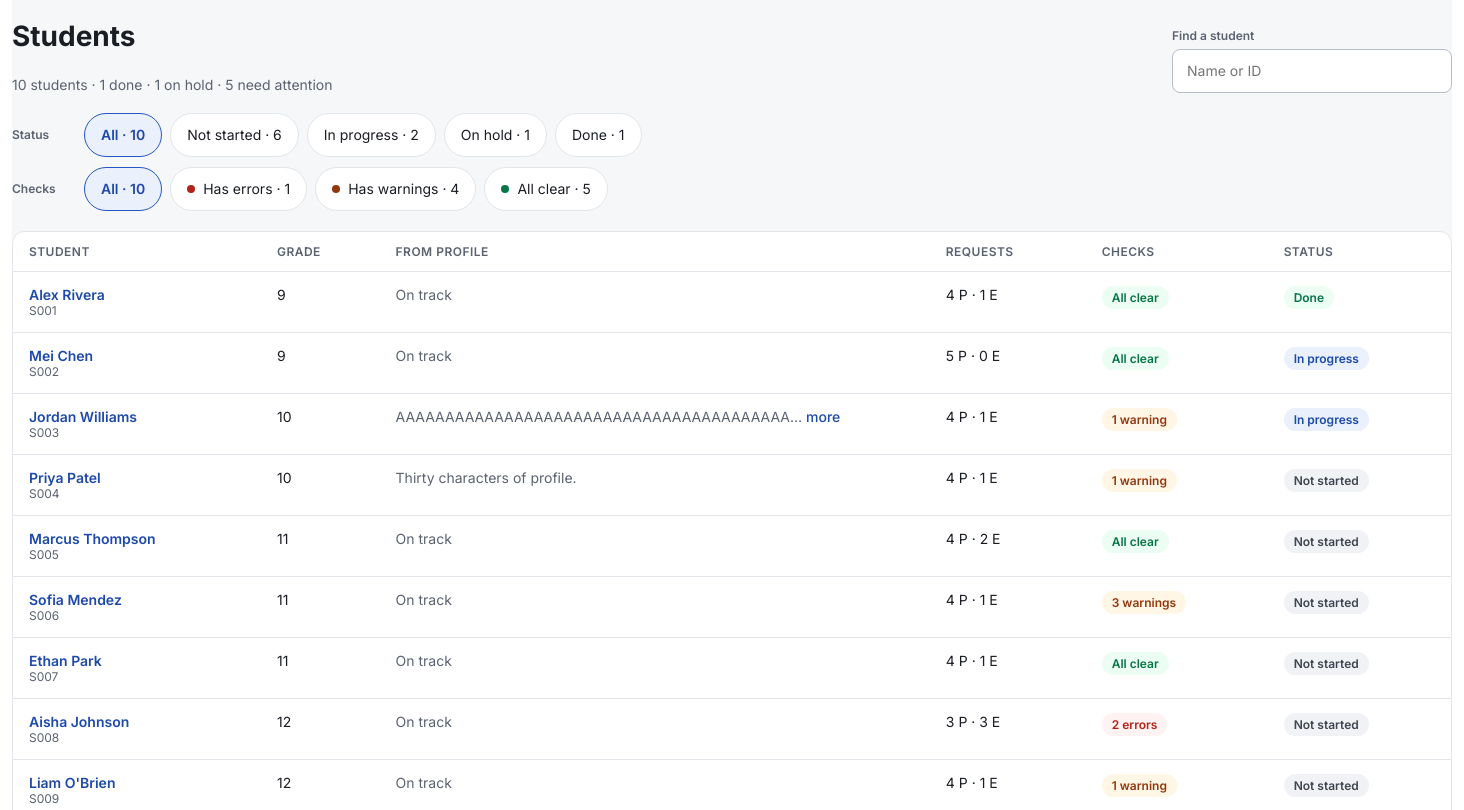
Test: a long profile shows 40 characters, 'more' expands to 255 and 'less' collapses
The image size is (1464, 810).
Click the button with aria-label "more: Jordan Williams profile" at (823,416), box [806, 408, 840, 424]
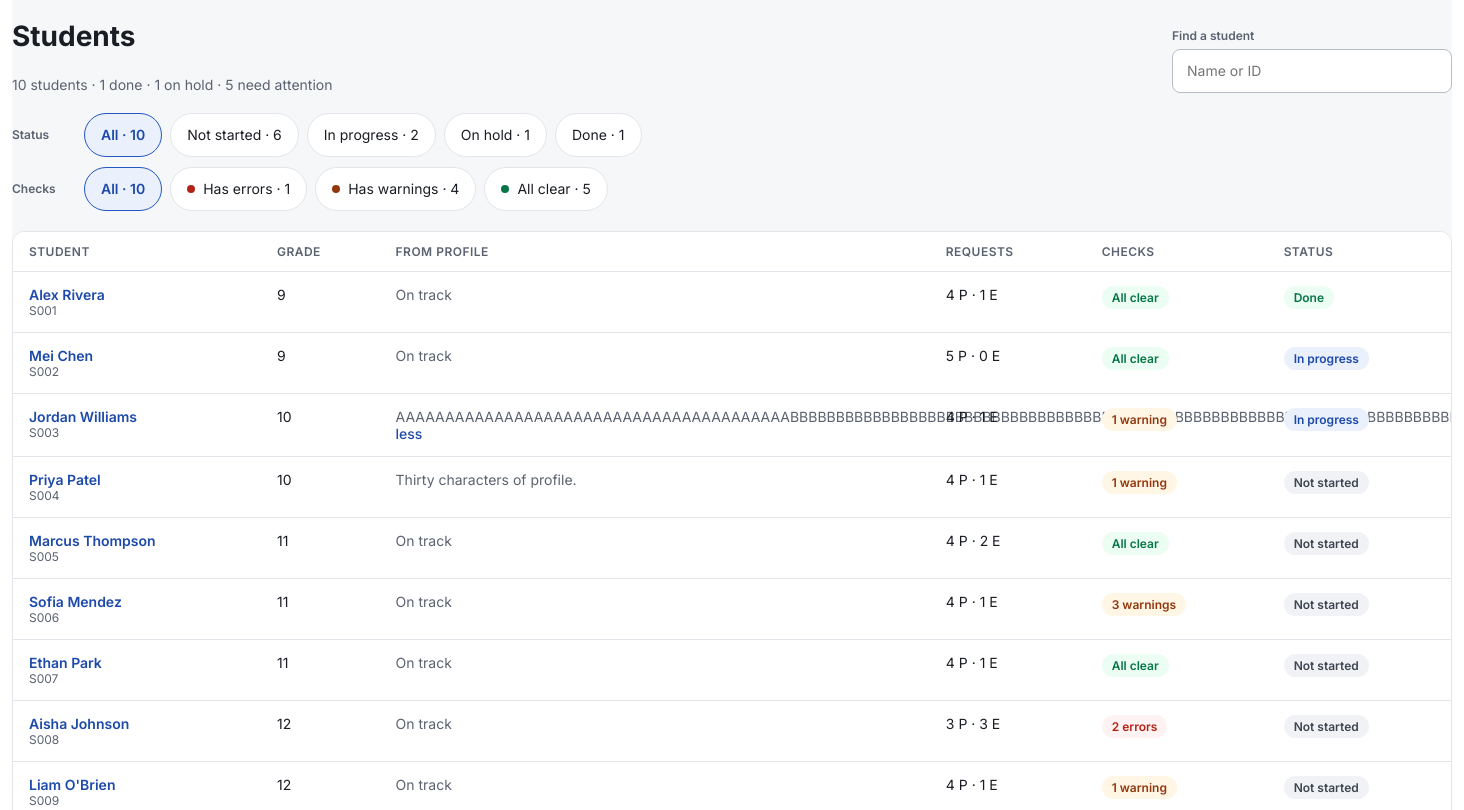
Click the button with aria-label "less: Jordan Williams profile" at (409,433), box [396, 424, 422, 442]
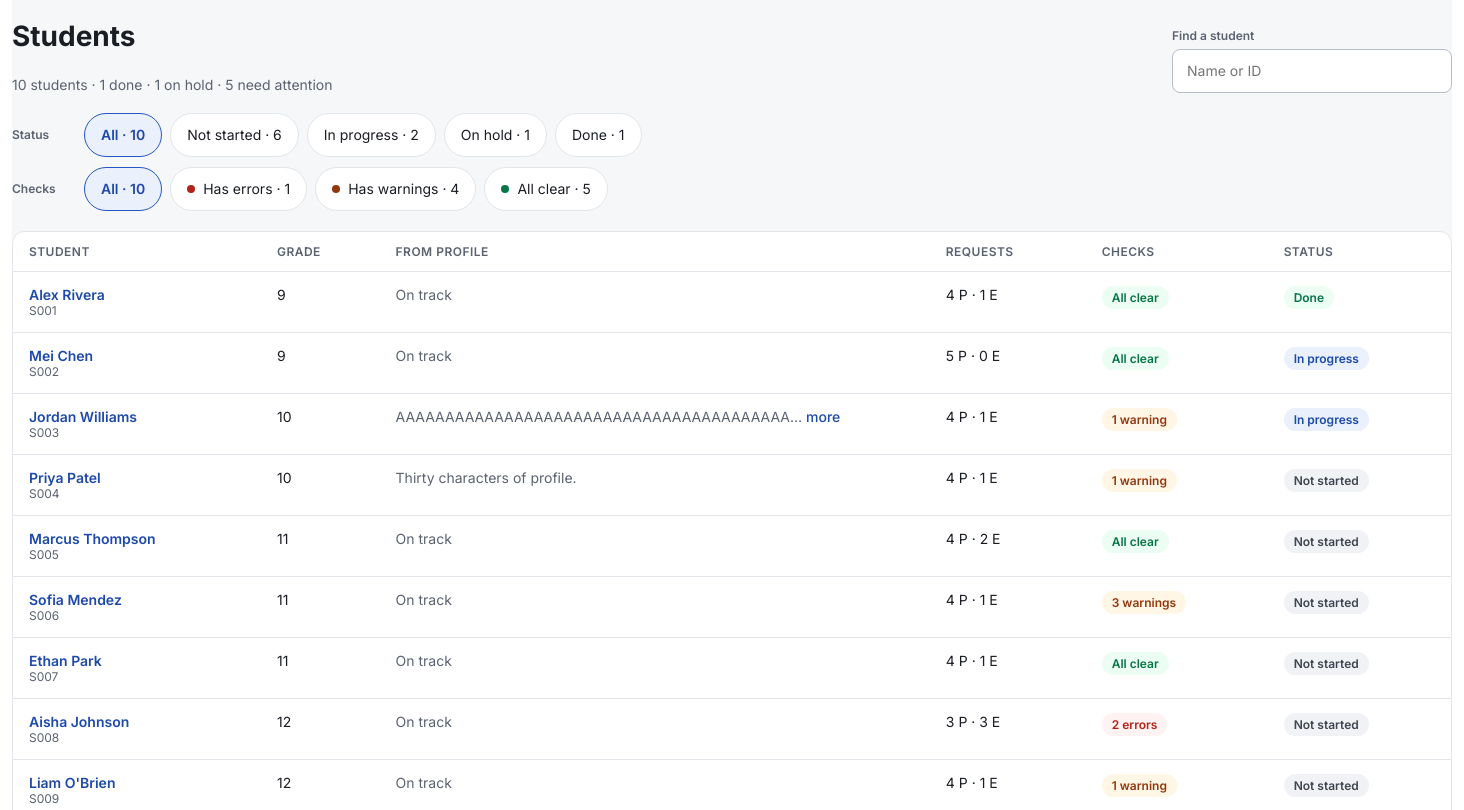
Expected: the button with aria-label "more: Jordan Williams profile" is shown, [806, 408, 840, 424]
